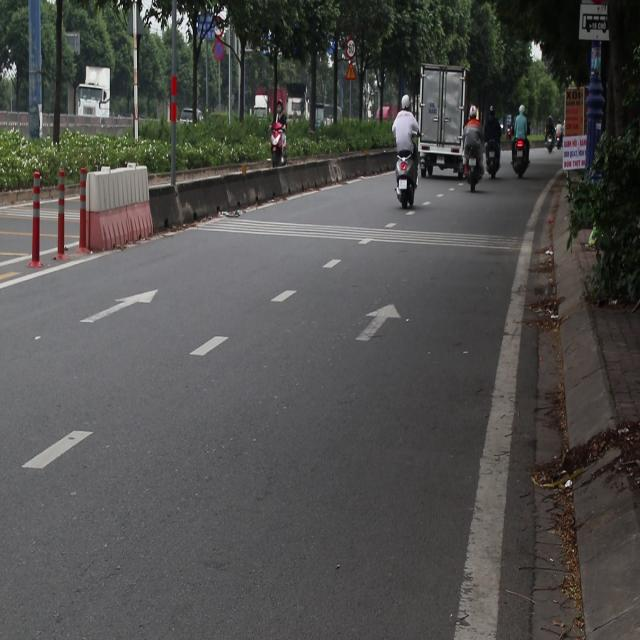car: (162, 90, 209, 148)
motorbike: (394, 150, 419, 210), (262, 120, 288, 171), (511, 120, 532, 179), (482, 136, 498, 184), (465, 146, 479, 192), (556, 119, 565, 156), (549, 127, 557, 153)
truck: (413, 65, 474, 175), (82, 72, 132, 146)
